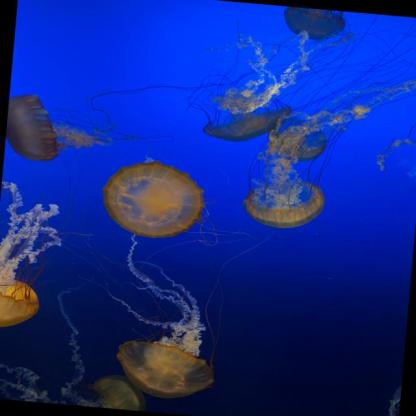jellyfish: (98, 155, 207, 242), (112, 337, 218, 402), (243, 174, 326, 232), (4, 90, 64, 164), (202, 98, 293, 146), (268, 120, 329, 163), (282, 6, 348, 44), (90, 370, 148, 411), (0, 278, 42, 334)
